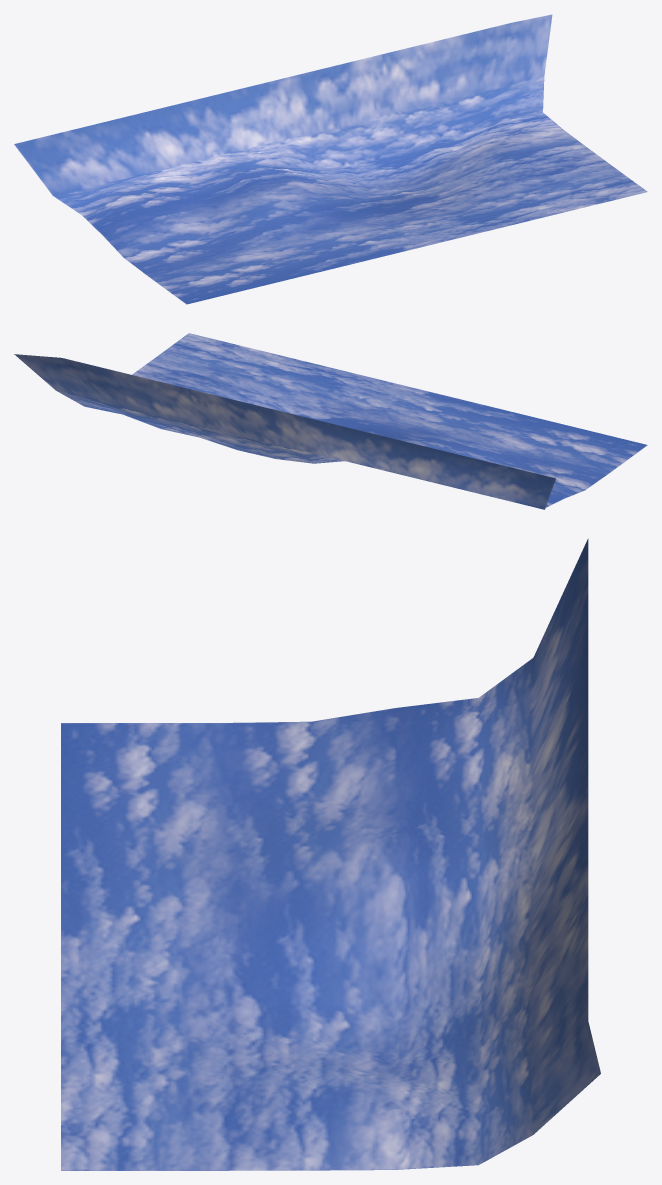
File: fengbaozhita_05_d.FBX
The picture shows the model from 3 angles, top to bottom: view 1: azimuth 30°, elevation 25°; view 2: azimuth 150°, elevation 25°; view 3: azimuth 270°, elevation 25°; orthographic projection. The views are drawn at different scales.
Parts seen in each view (by area): view 1: fengbaozhita_05_d; view 2: fengbaozhita_05_d; view 3: fengbaozhita_05_d.
Boxes of the visible parts, x1,y1,x2,y2 form: fengbaozhita_05_d: [14, 14, 647, 304]; fengbaozhita_05_d: [14, 333, 647, 509]; fengbaozhita_05_d: [61, 538, 600, 1170].
Bounding box in the file's own units: 29366 × 4607 × 12746.
